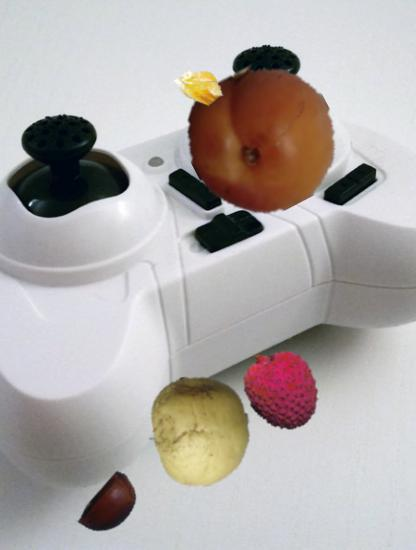Apple: (144, 375, 256, 487)
Apricot: (188, 65, 337, 214)
Chestnut: (76, 472, 146, 542)
Lychee: (238, 344, 326, 432)
Physalis: (173, 59, 227, 113)
